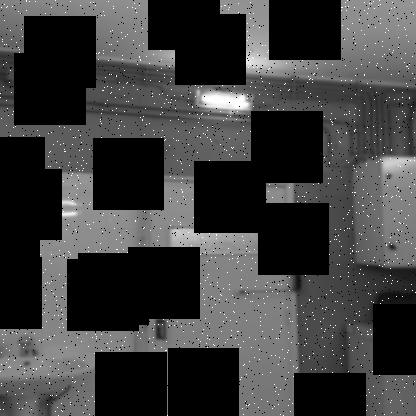Porte: (135, 177, 302, 416)
